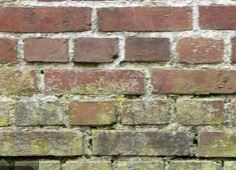brick: (92, 128, 192, 159), (43, 70, 145, 96), (96, 5, 194, 32), (1, 6, 94, 33), (150, 67, 236, 95), (1, 128, 84, 155), (175, 98, 227, 127), (68, 97, 118, 127), (177, 36, 226, 64), (73, 36, 120, 65), (120, 99, 172, 125), (123, 36, 172, 63), (23, 37, 71, 63), (197, 3, 236, 31)
